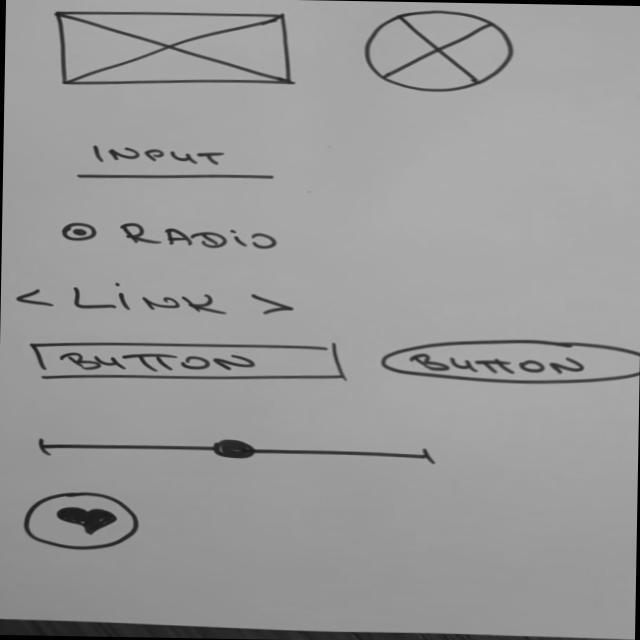button: (28, 337, 351, 388), (375, 335, 640, 389)
icon-button: (19, 488, 145, 554)
image: (51, 8, 298, 91), (360, 8, 518, 97)
input: (69, 139, 282, 186)
link: (13, 275, 297, 321)
radio: (59, 219, 101, 245)
slider: (28, 434, 443, 467)
